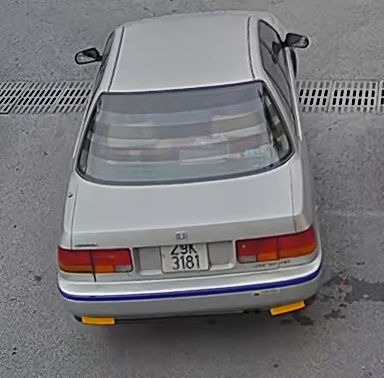vehicle plate: (158, 242, 211, 273)
